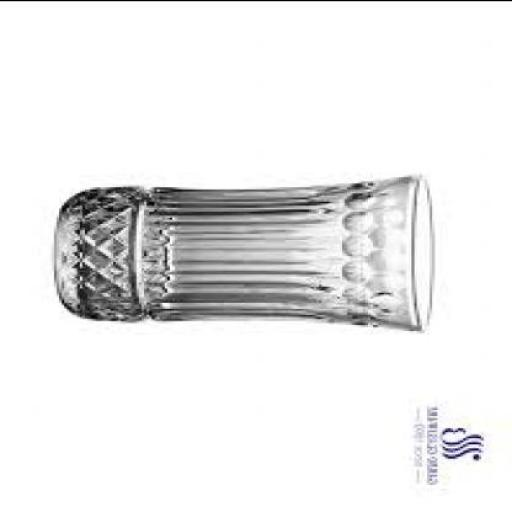glass: (58, 178, 438, 332)
